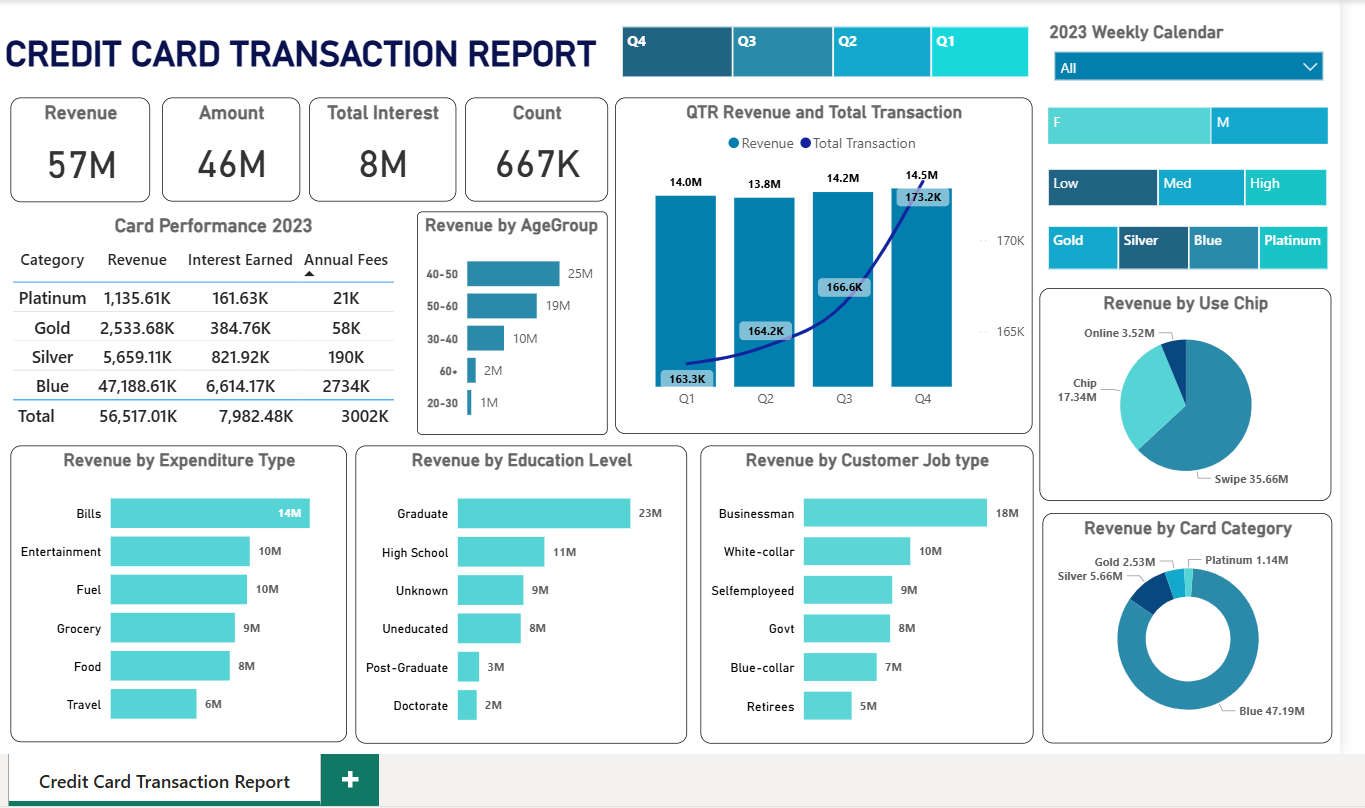

The page's visual inventory and layout, read from the dashboard file:
{"tool":"powerbi","page":{"name":"Credit Card Transaction Report","canvas":[1280,720],"ordinal":0},"visuals":[{"type":"textbox","box":[0,8.3,588.3,70],"z":0},{"type":"lineStackedColumnComboChart","title":"QTR Revenue and Total Transaction","fields":{"Y":["Sum(public cc_detail.Revenue)"],"Y2":["Sum(public cc_detail.total_trans_ct)"],"Category":["public cc_detail.qtr"]},"box":[588,92.9,398.5,321.5],"z":1000},{"type":"barChart","title":"Revenue by Expenditure Type","fields":{"Y":["Sum(public cc_detail.Revenue)"],"Category":["public cc_detail.exp_type"]},"box":[9.8,425.4,321.5,283.6],"z":2000},{"type":"barChart","title":"Revenue by Customer Job type","fields":{"Category":["public cust_detail.customer_job"],"Y":["Sum(public cc_detail.Revenue)"]},"box":[668.7,425.4,317.8,284.8],"z":3000},{"type":"clusteredBarChart","title":"Revenue by Education Level","fields":{"Category":["public cust_detail.education_level"],"Y":["Sum(public cc_detail.Revenue)"]},"box":[339.8,425.4,316.6,284.8],"z":4000},{"type":"donutChart","title":"Revenue by Card Category","fields":{"Category":["public cc_detail.card_category"],"Y":["Sum(public cc_detail.Revenue)"]},"box":[995,490,276.7,220],"z":5000},{"type":"pieChart","title":"Revenue by Use Chip","fields":{"Category":["public cc_detail.use_chip"],"Y":["Sum(public cc_detail.Revenue)"]},"box":[993.3,275,278.3,203.3],"z":6000},{"type":"tableEx","title":"Card Performance 2023","fields":{"Values":["public cc_detail.card_category","Sum(public cc_detail.Revenue)","Sum(public cc_detail.interest_earned)","Sum(public cc_detail.annual_fees)"]},"box":[10,201.7,388.3,213.3],"z":7000},{"type":"card","title":"Revenue","fields":{"Values":["Sum(public cc_detail.Revenue)"]},"box":[9.8,92.9,133.2,100.2],"z":8000},{"type":"card","title":"Amount","fields":{"Values":["Sum(public cc_detail.total_trans_amt)"]},"box":[154,92.9,132,99],"z":9000},{"type":"card","title":"Total Interest","fields":{"Values":["Sum(public cc_detail.interest_earned)"]},"box":[294.6,92.9,140.6,99],"z":10000},{"type":"card","title":"Count","fields":{"Values":["Sum(public cc_detail.total_trans_ct)"]},"box":[443.7,92.9,136.9,99],"z":11000},{"type":"slicer","title":"2023 Weekly Calendar","fields":{"Values":["public cc_detail.week_start_date"]},"box":[996.7,20,276.7,70],"z":12000},{"type":"treemap","fields":{"Group":["public cc_detail.qtr"],"Values":["Avg(public cc_detail.client_num)"]},"box":[588.3,20,398.3,58.3],"z":13000},{"type":"treemap","fields":{"Group":["public cc_detail.card_category"],"Values":["Avg(public cc_detail.client_num)"]},"box":[995,210.3,277.5,51.3],"z":15000},{"type":"treemap","fields":{"Group":["public cust_detail.IncomeGroup"],"Values":["CountNonNull(public cc_detail.Revenue)"]},"box":[995,156.5,276.3,45.2],"z":16000},{"type":"treemap","fields":{"Values":["CountNonNull(public cc_detail.Revenue)"],"Group":["public cust_detail.gender"]},"box":[996.4,97.3,275,45],"z":16001},{"type":"barChart","title":"Revenue by AgeGroup","fields":{"Category":["public cust_detail.AgeGroup"],"Y":["Sum(public cc_detail.Revenue)"]},"box":[398.3,201.7,181.7,213.3],"z":16002}]}

Visuals, with their boxes in screenshot pixels (x1, y1, x2, y2):
textbox: left=0, top=0, right=612, bottom=33
"QTR Revenue and Total Transaction" lineStackedColumnComboChart: left=611, top=48, right=1030, bottom=386
"Revenue by Expenditure Type" barChart: left=3, top=398, right=341, bottom=696
"Revenue by Customer Job type" barChart: left=696, top=398, right=1030, bottom=697
"Revenue by Education Level" clusteredBarChart: left=350, top=398, right=683, bottom=697
"Revenue by Card Category" donutChart: left=1039, top=466, right=1330, bottom=697
"Revenue by Use Chip" pieChart: left=1038, top=239, right=1330, bottom=453
"Card Performance 2023" tableEx: left=3, top=162, right=412, bottom=387
"Revenue" card: left=3, top=48, right=143, bottom=153
"Amount" card: left=155, top=48, right=294, bottom=152
"Total Interest" card: left=303, top=48, right=451, bottom=152
"Count" card: left=460, top=48, right=603, bottom=152
"2023 Weekly Calendar" slicer: left=1041, top=0, right=1332, bottom=45
treemap - public cc_detail.qtr x Avg(public cc_detail.client_num): left=612, top=0, right=1030, bottom=33
treemap - public cc_detail.card_category x Avg(public cc_detail.client_num): left=1039, top=171, right=1331, bottom=225
treemap - public cust_detail.IncomeGroup x CountNonNull(public cc_detail.Revenue): left=1039, top=115, right=1330, bottom=162
treemap - CountNonNull(public cc_detail.Revenue) x public cust_detail.gender: left=1041, top=53, right=1330, bottom=100
"Revenue by AgeGroup" barChart: left=412, top=162, right=603, bottom=387
